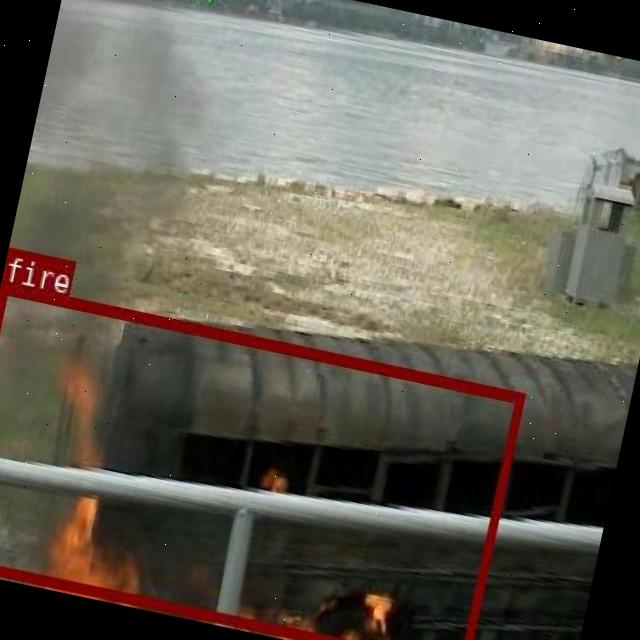fire: (0, 282, 524, 640)
